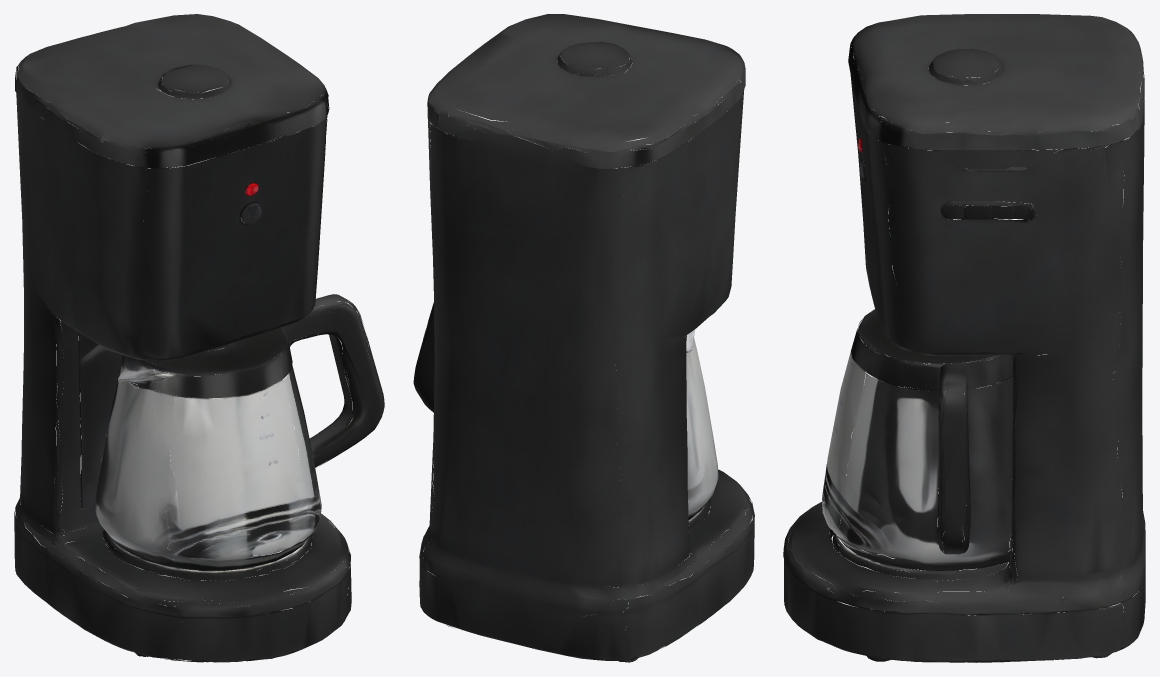
File: coffee_maker.glb
3 renders of one model, left to right at view 1: azimuth 30°, elevation 25°; view 2: azimuth 150°, elevation 25°; view 3: azimuth 270°, elevation 25°, orthographic. The views are drawn at different scales.
Visible parts, largest first — view 1: Mesh; view 2: Mesh; view 3: Mesh.
Boxes of the visible parts, left/top/right/bottom form: Mesh: left=14, top=14, right=384, bottom=662; Mesh: left=413, top=14, right=754, bottom=662; Mesh: left=783, top=14, right=1145, bottom=662.
Size of the model in its own units: 1.15 by 1.9 by 1.14.
Materials: 1 (1 with a texture image).
